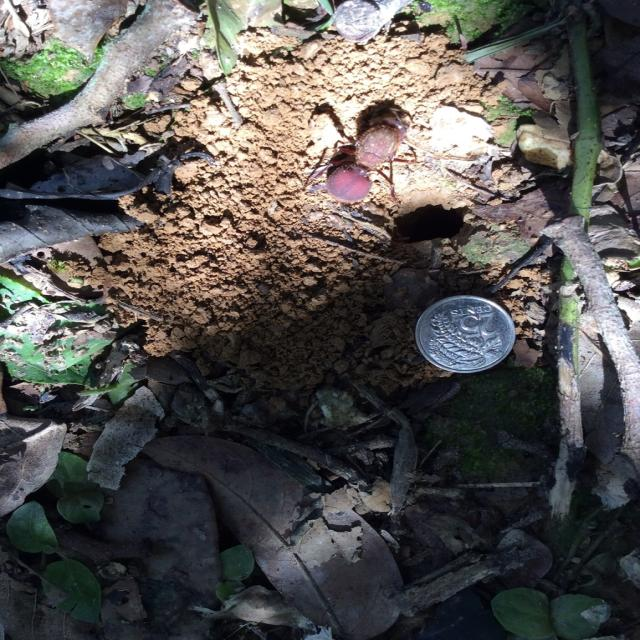Alive-Female-Dealate: (300, 107, 423, 205)
